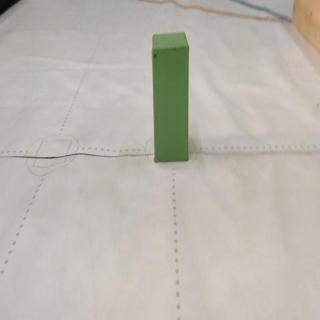greenbox: (150, 33, 190, 163)
